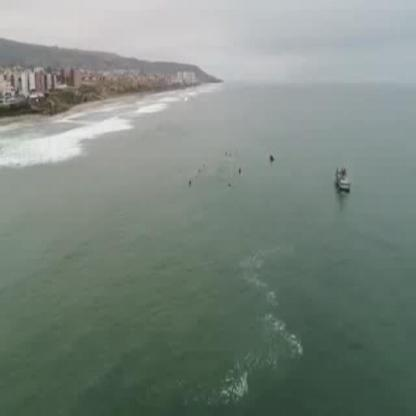Boat: (334, 160, 358, 191)
